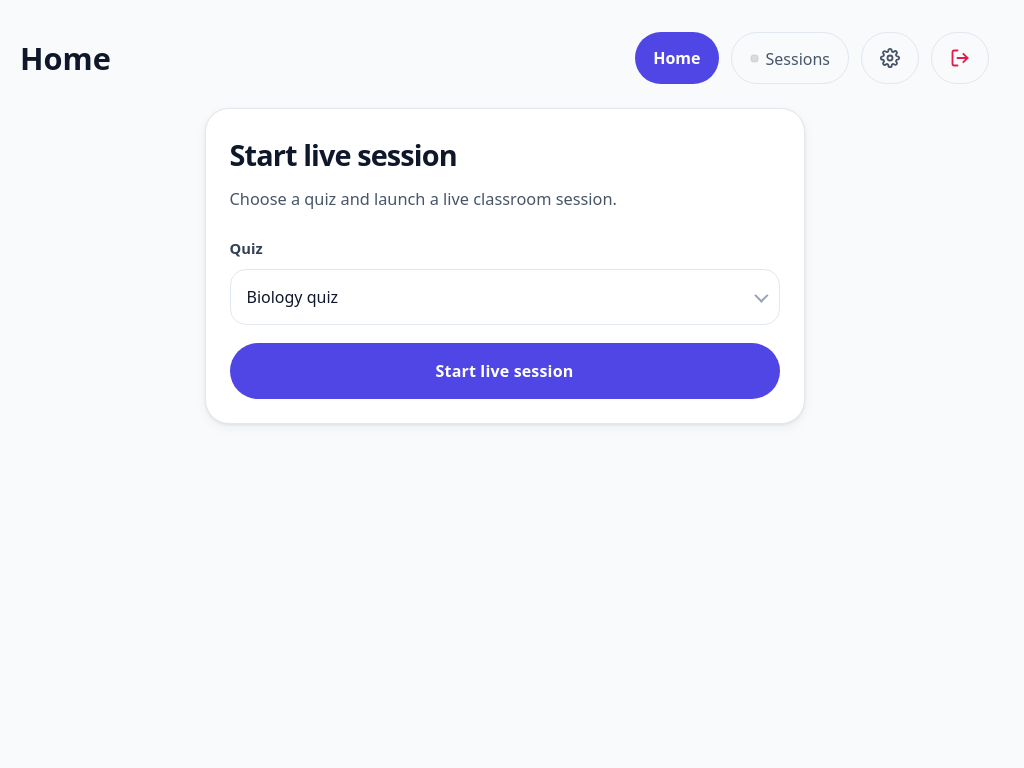
Scenario: App › marks quizzes with local drafts in the settings list
Click the 1st button named "Settings" at (890,58), box x1=861 y1=32 x2=919 y2=84
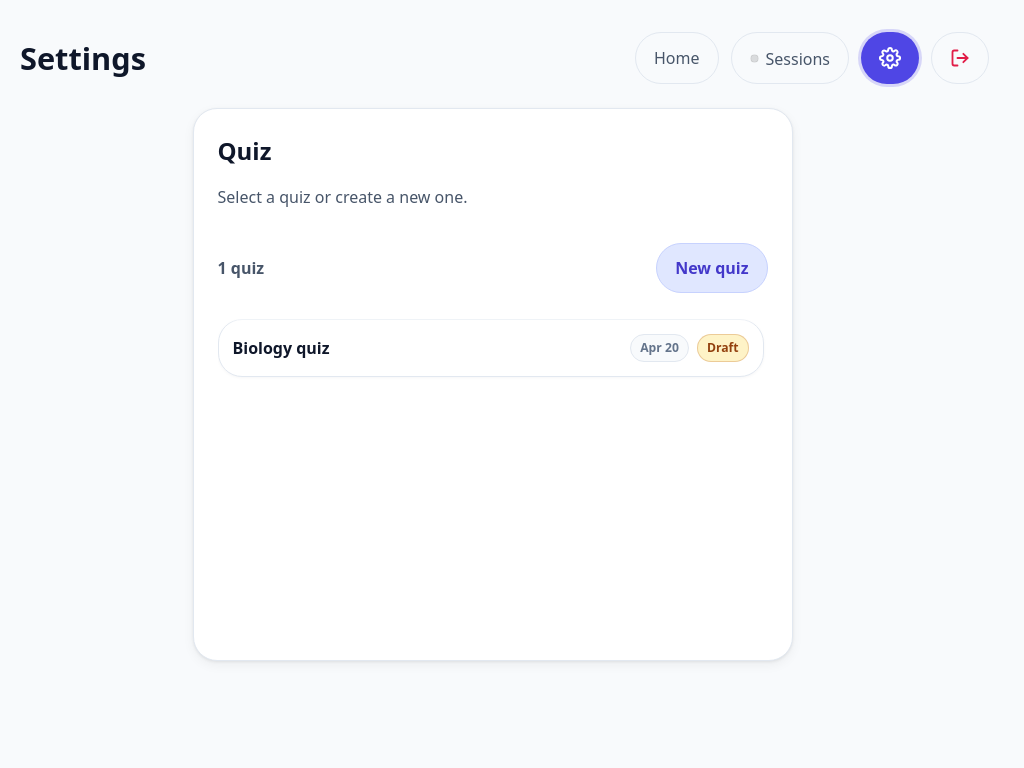
Result: the text "Draft" is shown at x1=697 y1=334 x2=748 y2=362
Click the button "Biology quiz Apr 20 Draft" at (281,348), box x1=218 y1=319 x2=764 y2=377
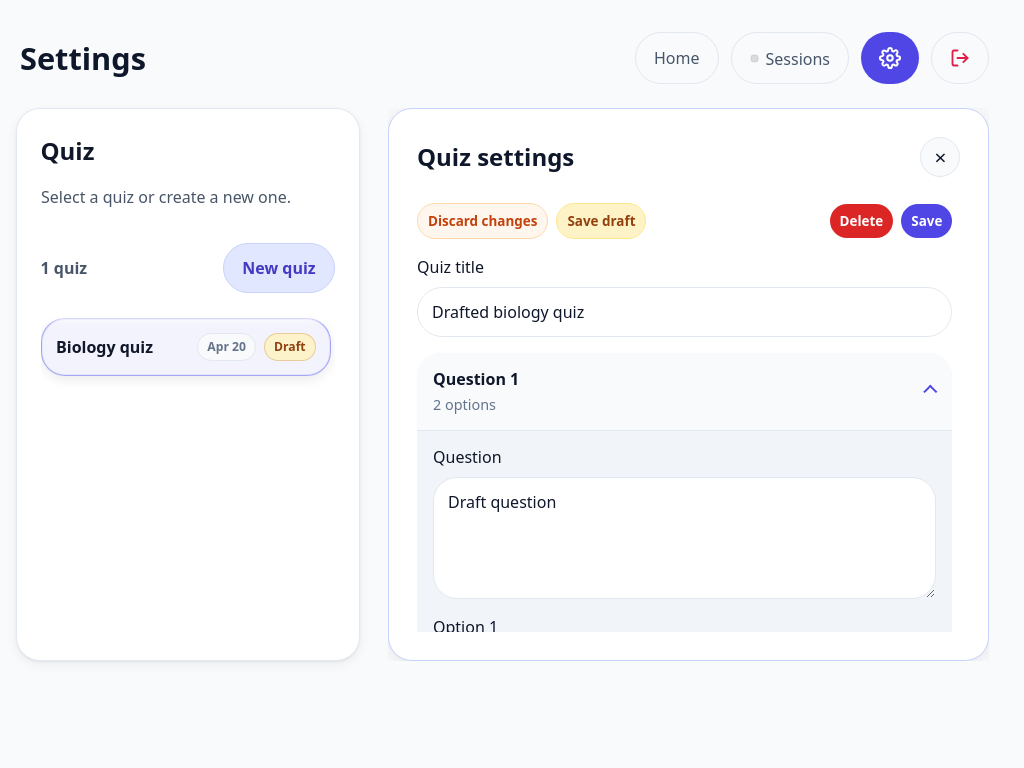
Result: the button "Discard changes" is enabled at x1=417 y1=203 x2=548 y2=239
